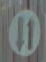Two way: (5, 7, 41, 56)
